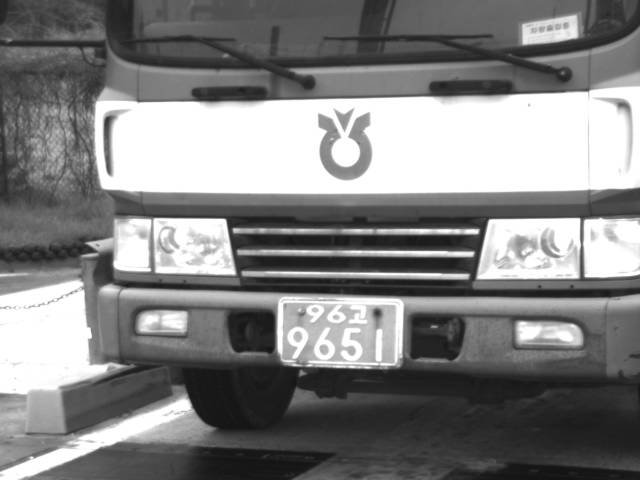car: (80, 1, 639, 432)
plate: (278, 297, 404, 367)
